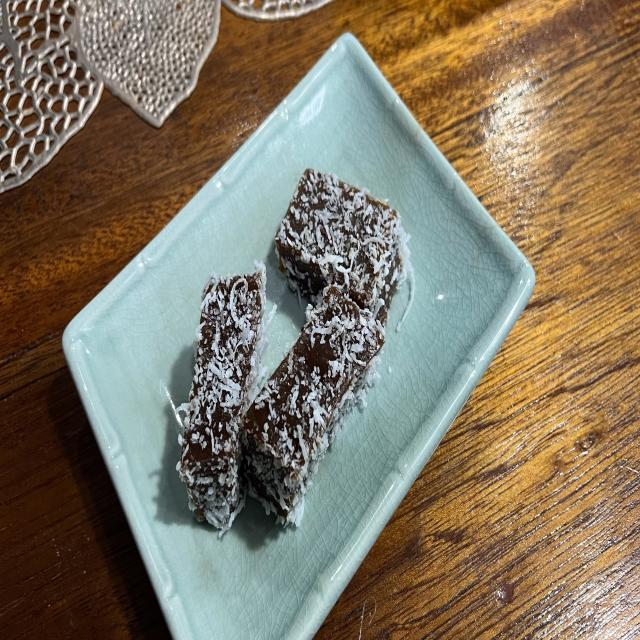kaswi: (241, 284, 385, 524), (178, 264, 266, 536), (275, 169, 409, 327)
